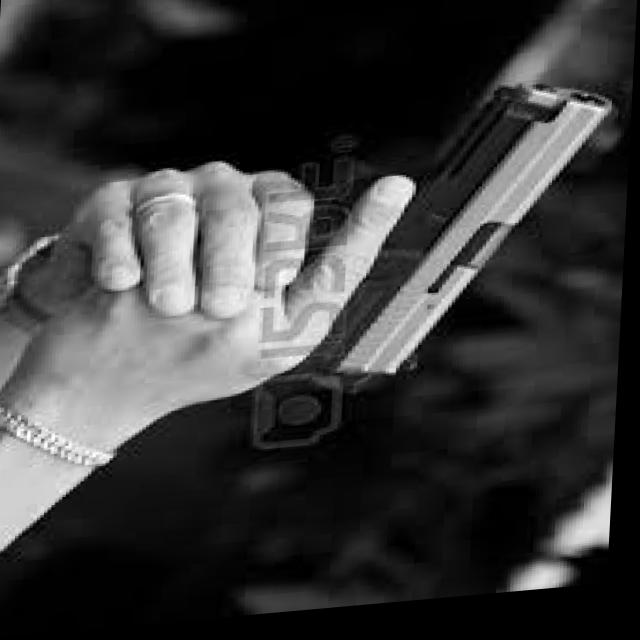handgun: (287, 96, 620, 393)
